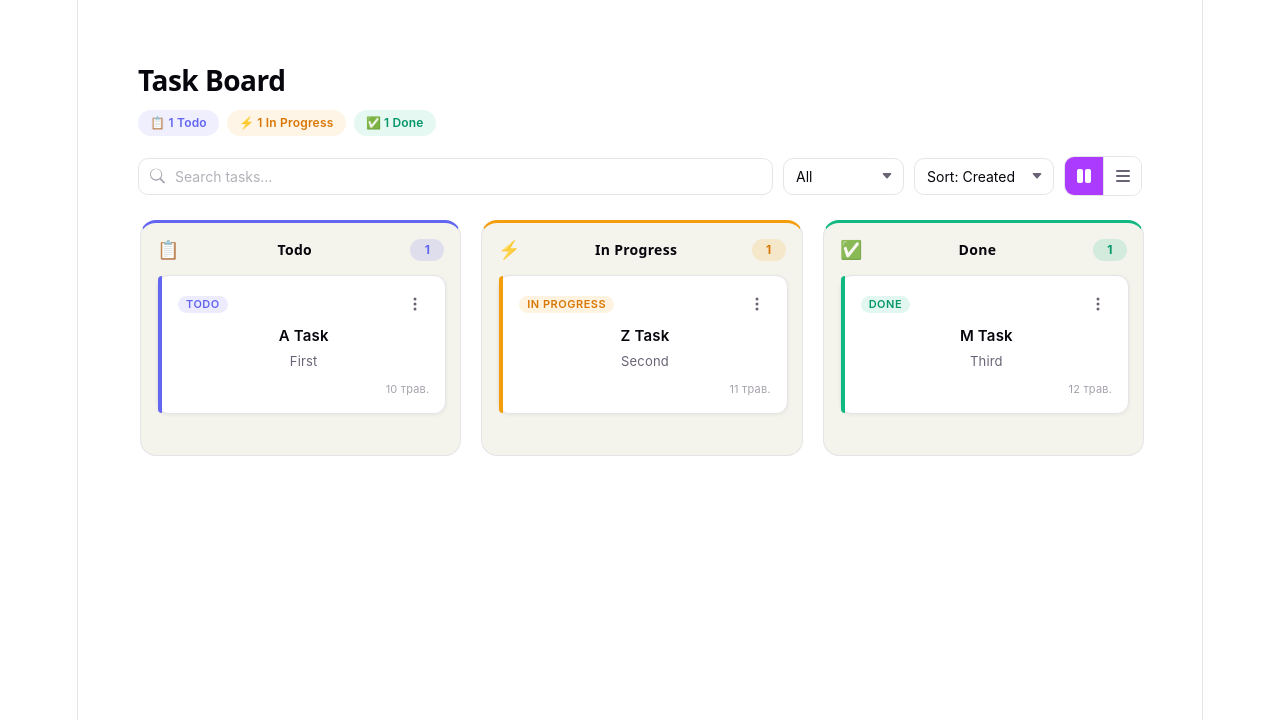
it: TaskContainer Component - Filtering and Sorting › should filter tasks by status
The image size is (1280, 720).
Check: the heading "A Task" is shown, box top-left (279, 326), bottom-right (329, 345)
Check: the heading "Z Task" is shown, box top-left (621, 326), bottom-right (669, 345)
Note: Filter by InProgress
Select "In Progress" in the dropdown named "Filter by status" at (844, 176), box top-left (783, 158), bottom-right (904, 195)
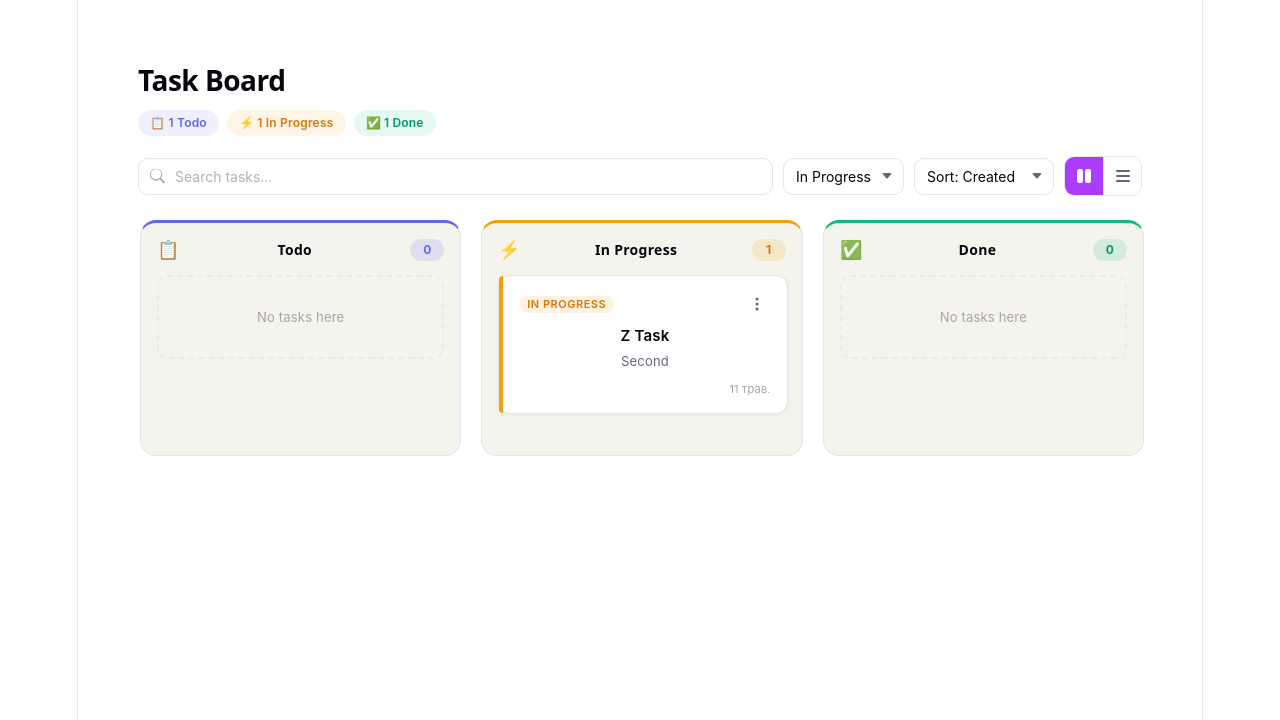
Check: the heading "Z Task" is shown, box top-left (621, 326), bottom-right (669, 345)
Check: the heading "A Task" is gone
Check: the heading "M Task" is gone
